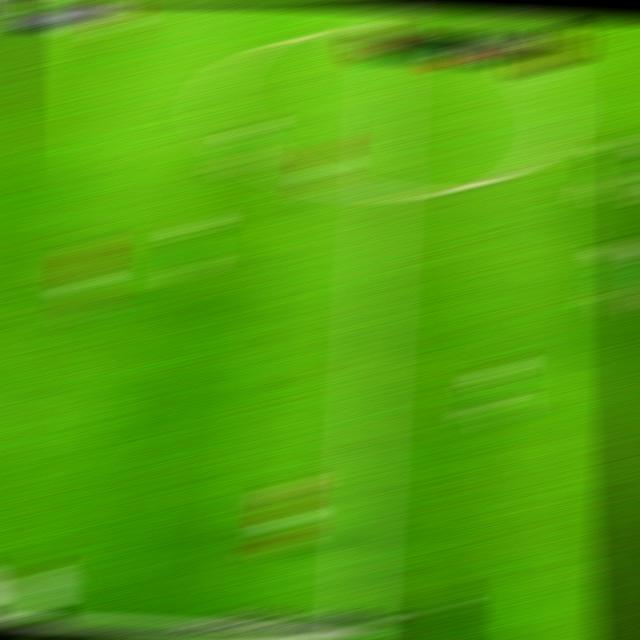halfcircle_bottom: (358, 177, 404, 209)
halfcircle_top: (364, 20, 418, 43)
midline_bottom_intersection: (320, 626, 388, 638)
